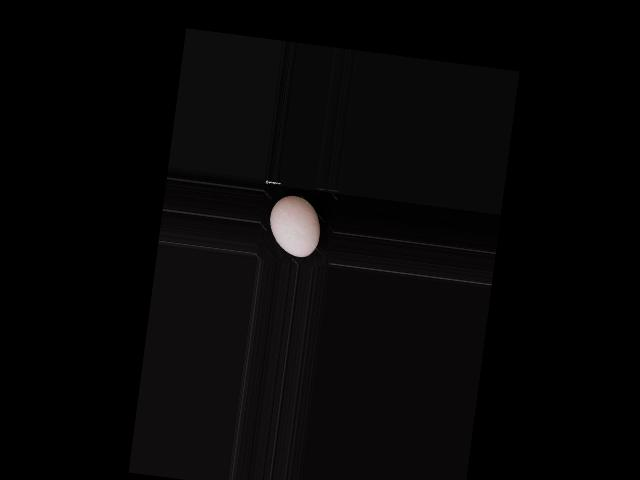egg: (266, 193, 324, 259)
